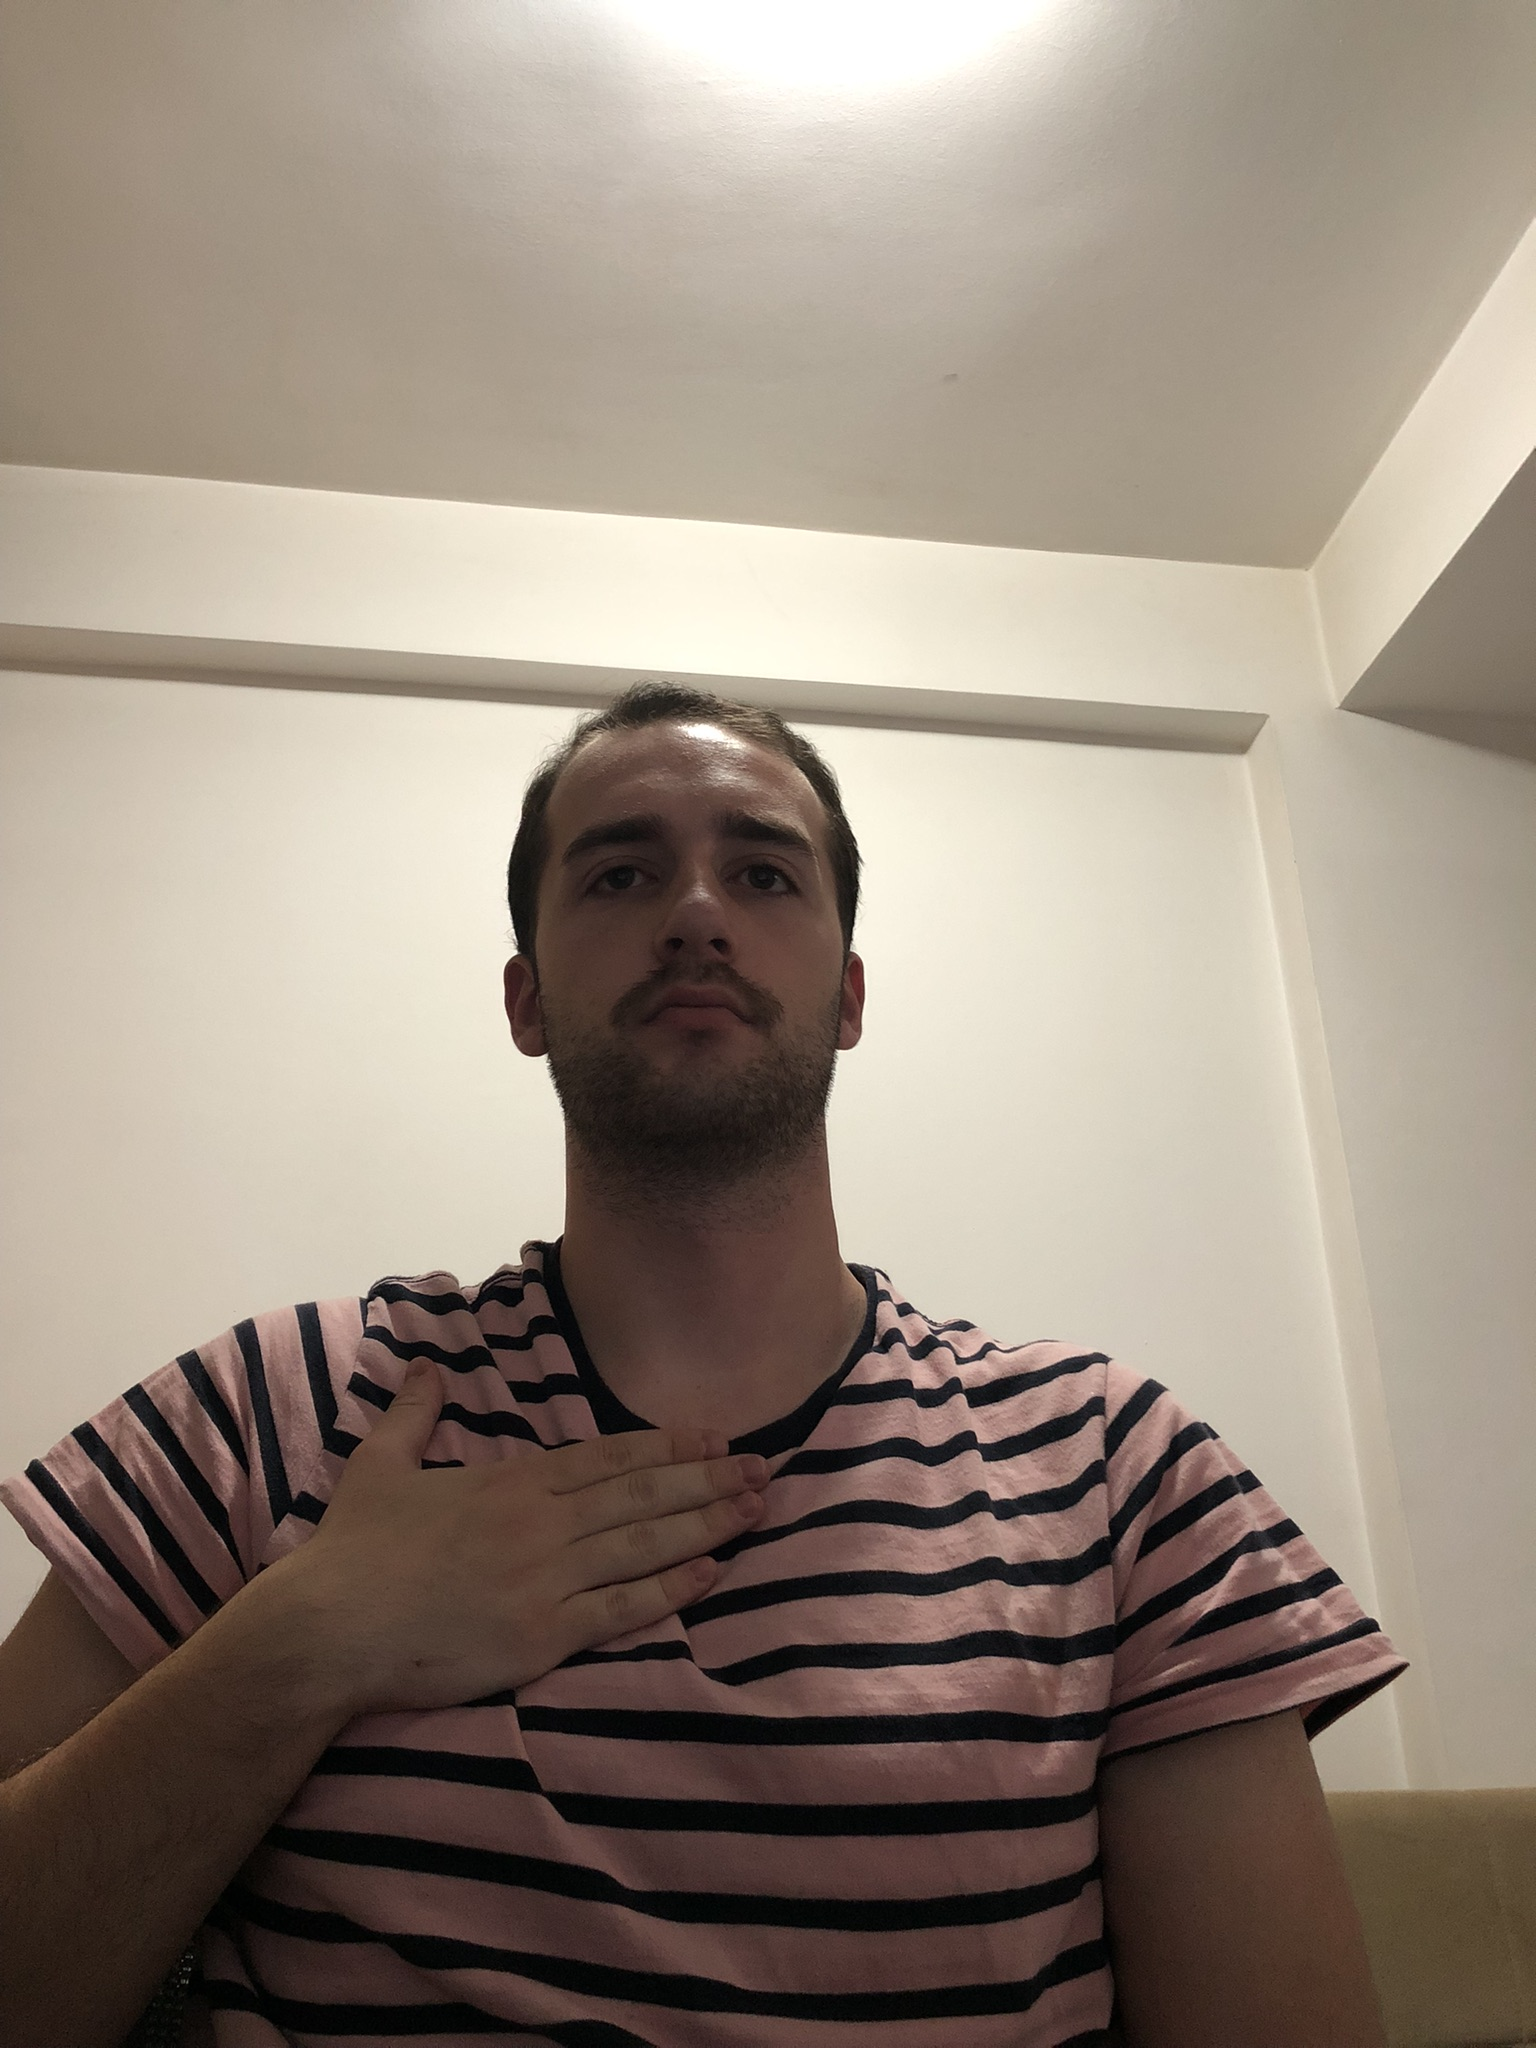Please: (6, 1355, 774, 2048)
